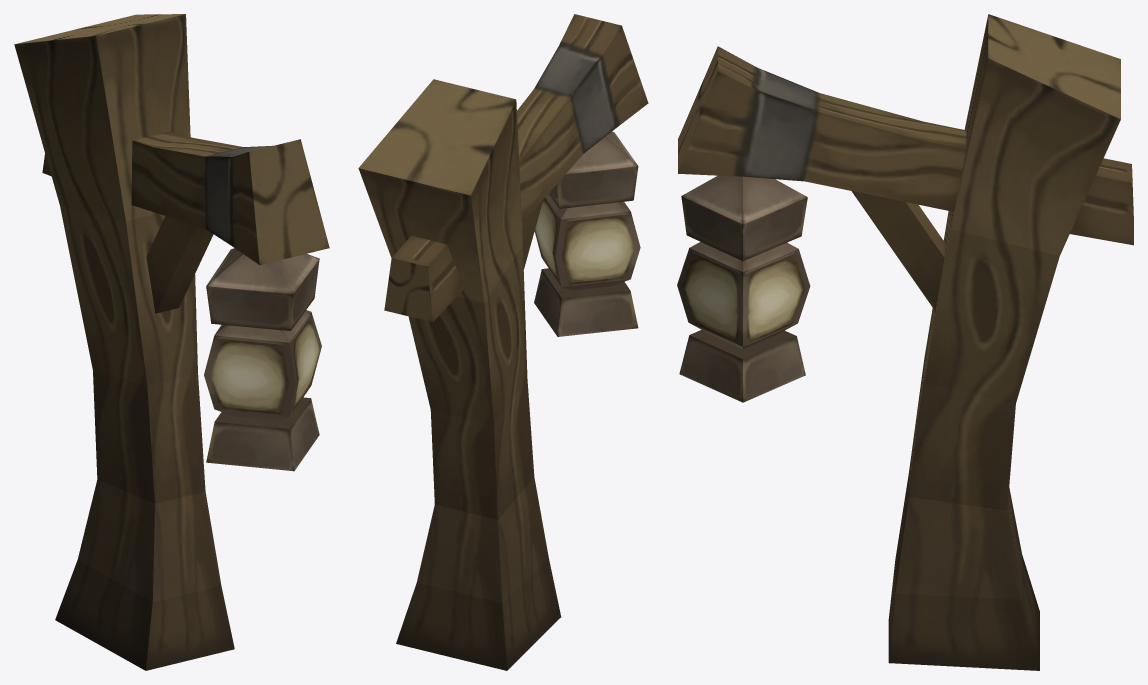
File: s01_lights.FBX
The picture shows the model from 3 angles, left to right: view 1: azimuth 30°, elevation 25°; view 2: azimuth 150°, elevation 25°; view 3: azimuth 270°, elevation 25°; orthographic projection. The views are drawn at different scales.
Visible parts, largest first — view 1: s01_lights; view 2: s01_lights; view 3: s01_lights.
Boxes of the visible parts, left/top/right/bottom form: s01_lights: left=14, top=14, right=329, bottom=670; s01_lights: left=358, top=14, right=648, bottom=670; s01_lights: left=677, top=14, right=1133, bottom=670.
Bounding box in the file's own units: 1.21 × 5.67 × 3.88.
